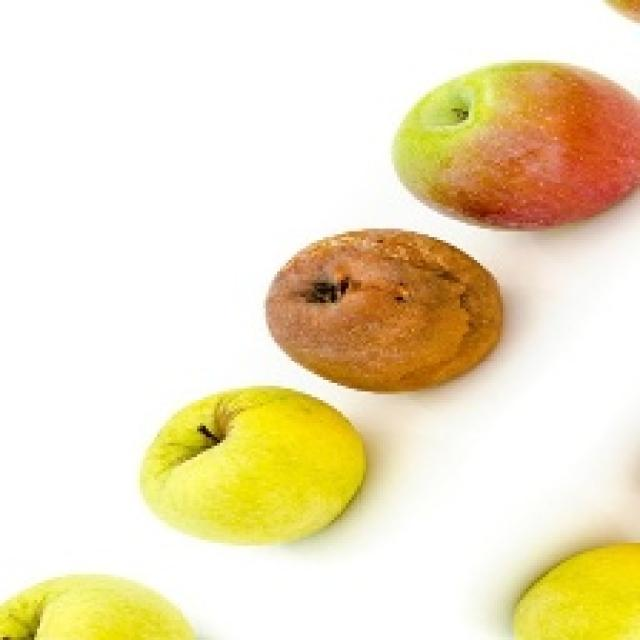100-_ripeness: (414, 73, 630, 220)
50-_ripeness: (162, 403, 358, 543)
rotten_apple: (269, 229, 500, 389)
